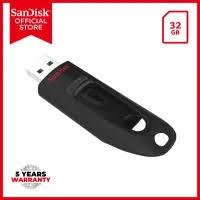Flash-drive: (11, 40, 186, 168)
